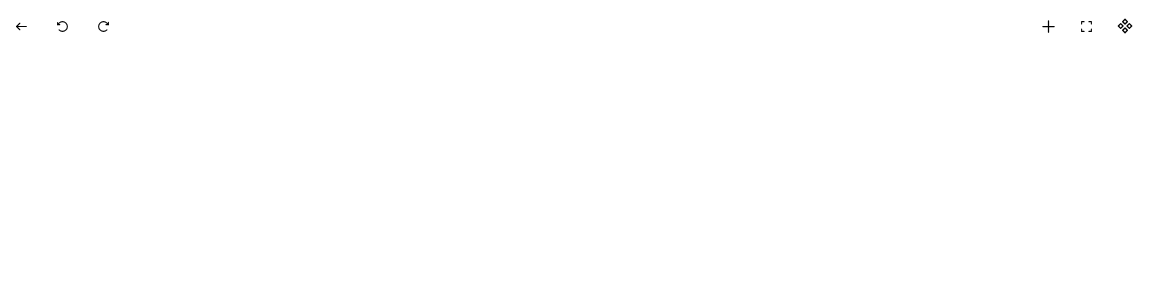
Scenario: editorTopBar more menu › hides specific menu items when configured in hiddenMoreMenuKeys
The width and height of the screenshot is (1149, 298).
Click the button with class "sketch-btn--more" at (1125, 26), box [1109,11,1141,41]
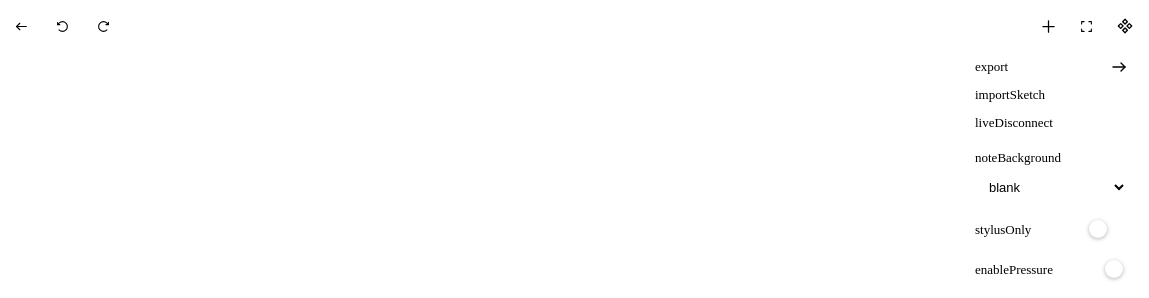
Check: the element with class "sketch-more-popover" shows "export", box [975,59,1008,74]
Check: the element with class "sketch-more-popover" shows "importSketch", box [975,87,1045,102]
